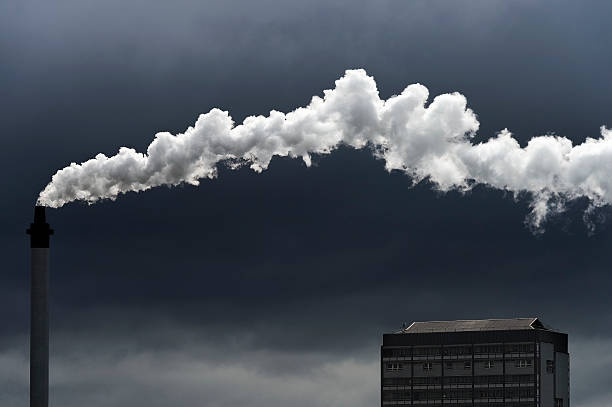smoke: (337, 66, 477, 191), (478, 125, 612, 226), (47, 135, 150, 211), (151, 107, 244, 186), (245, 95, 338, 173)
